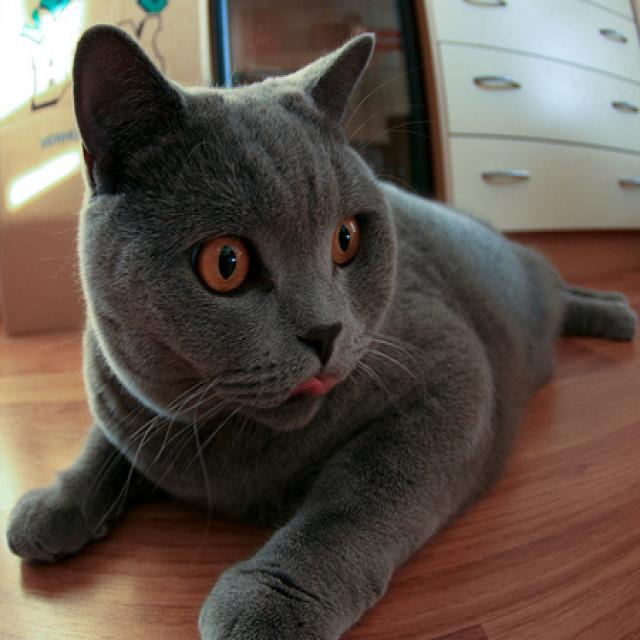British Shorthair: (3, 17, 640, 640)
